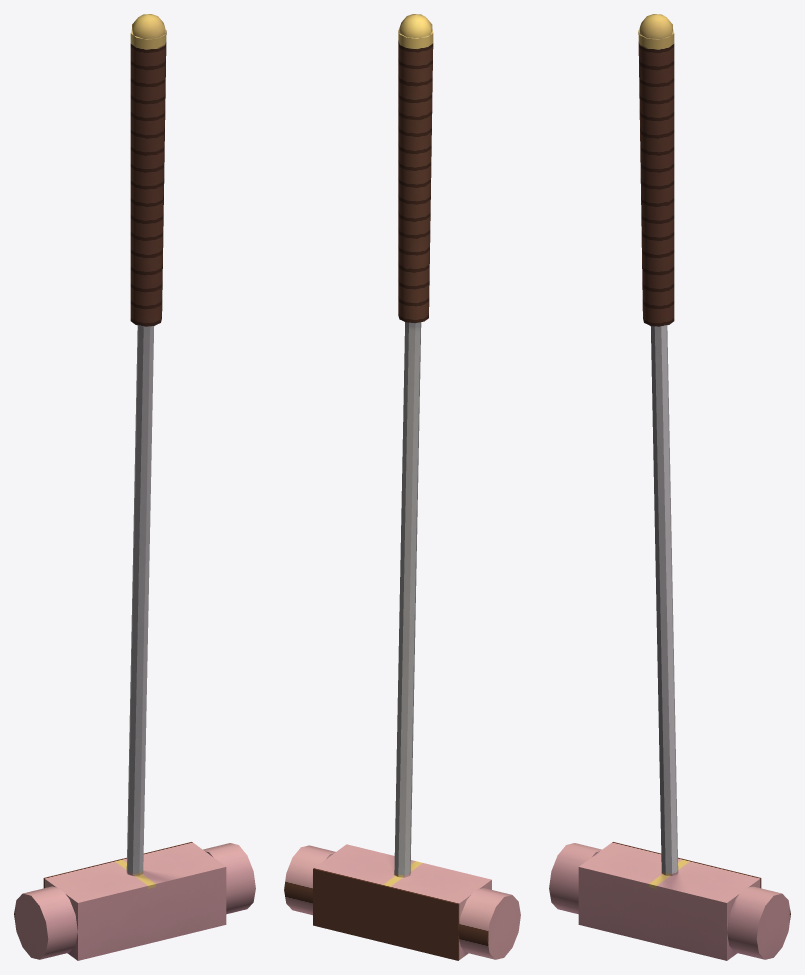
File: putter.glb
3 renders of one model, left to right at view 1: azimuth 30°, elevation 25°; view 2: azimuth 150°, elevation 25°; view 3: azimuth 330°, elevation 25°, orthographic. The views are drawn at different scales.
Parts seen in each view (by area): view 1: Putter.001; view 2: Putter.001; view 3: Putter.001.
Boxes of the visible parts, x1=… form: Putter.001: x1=14, y1=14, x2=255, y2=960; Putter.001: x1=284, y1=14, x2=520, y2=960; Putter.001: x1=549, y1=14, x2=790, y2=960.
Size of the model in its own units: 0.21 by 0.896 by 0.07.
Materials: 1 (1 with a texture image).
